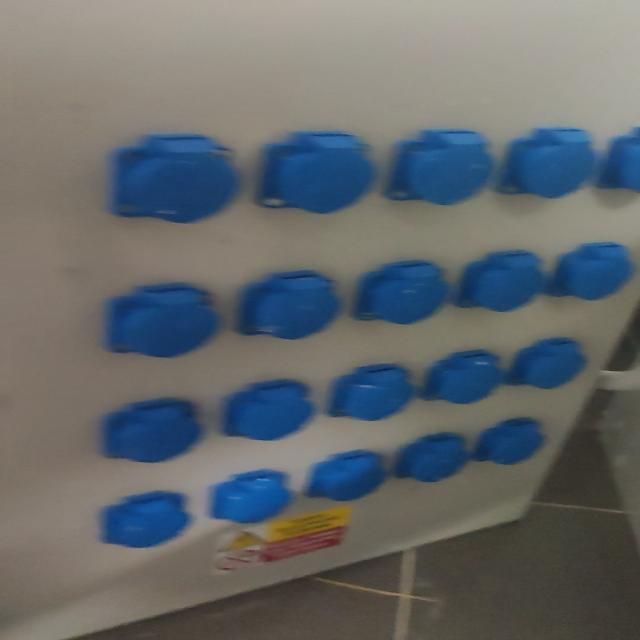house plug covered: (107, 134, 240, 227), (258, 133, 371, 215), (383, 128, 495, 206), (103, 284, 215, 358), (499, 127, 598, 200), (238, 274, 335, 340), (101, 402, 197, 463), (94, 490, 188, 548), (455, 253, 545, 312), (545, 243, 633, 303), (361, 262, 446, 324), (226, 383, 309, 441), (326, 363, 413, 418), (208, 469, 293, 523), (303, 450, 384, 501), (425, 350, 501, 404), (507, 341, 584, 388), (395, 432, 466, 482), (476, 417, 543, 465)
